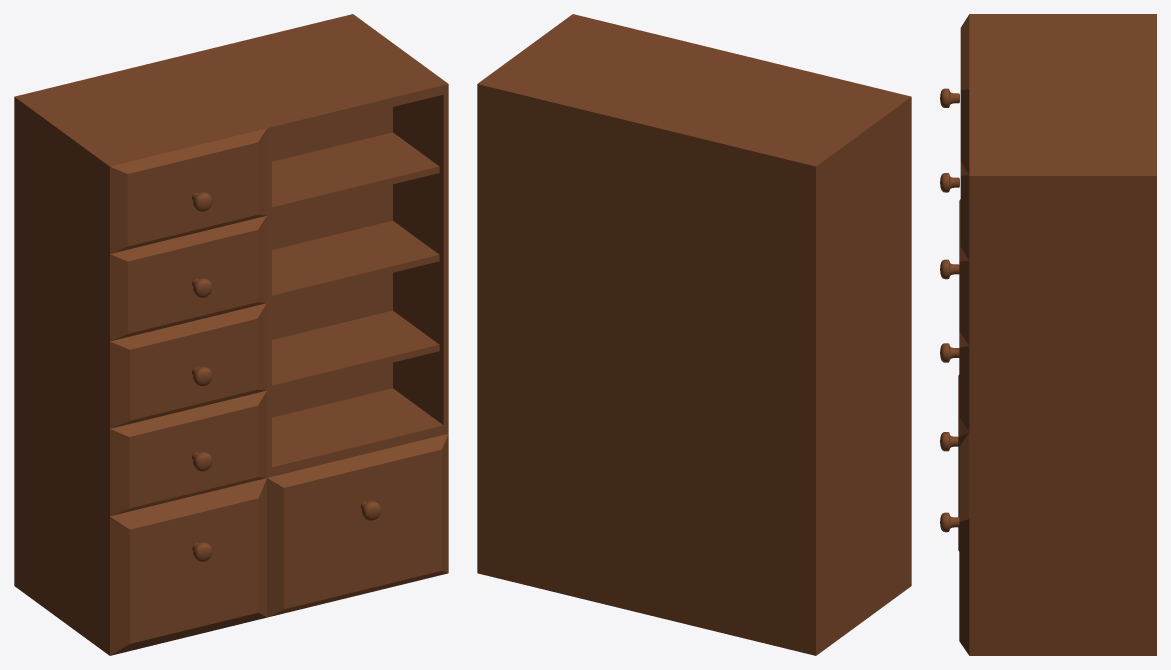
File: china_cabinet.fbx
3 renders of one model, left to right at view 1: azimuth 30°, elevation 25°; view 2: azimuth 150°, elevation 25°; view 3: azimuth 270°, elevation 25°, orthographic.
Parts seen in each view (by area): view 1: cabinet; view 2: cabinet; view 3: cabinet.
Boxes of the visible parts, x1,y1,x2,y2 form: cabinet: (14,14,448,655); cabinet: (477,14,911,655); cabinet: (940,14,1156,655).
Bounding box in the file's own units: 409 × 565 × 231.
